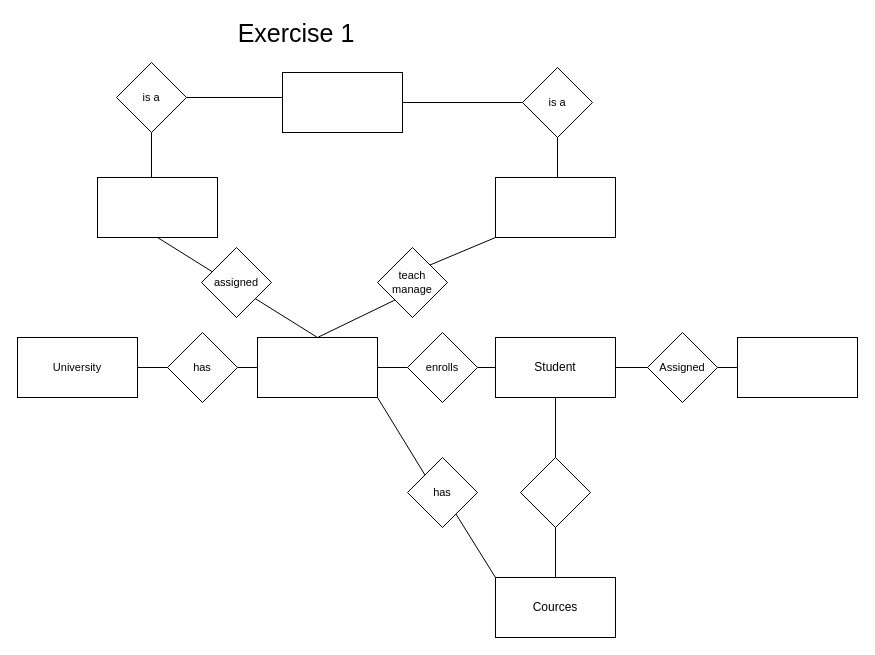
The diagram is 875 pixels wide and 655 high, and some of its shapes have lost their labels. The shapes that lost their labels are listed below. From the top down, each one's box as (x1, y1, x2, y2) in pixels, then its label:
(282, 72, 402, 132): Employee
(96, 176, 218, 238): Director
(494, 176, 616, 238): Professor
(256, 336, 378, 398): Faculty
(736, 336, 858, 398): Group
(520, 456, 590, 528): grade, cource attempted date
